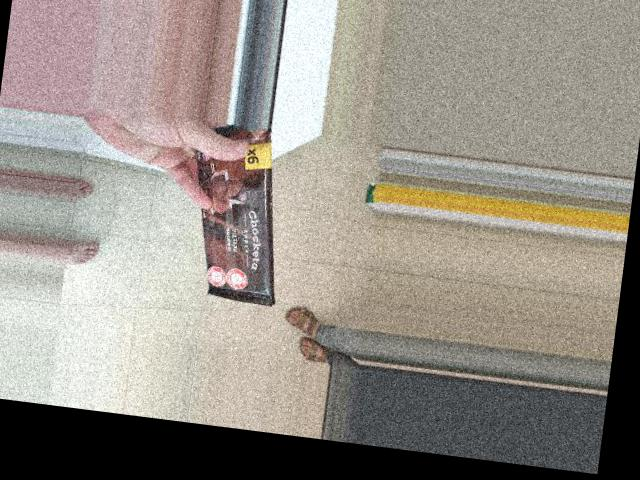chocolate: (168, 122, 301, 307)
